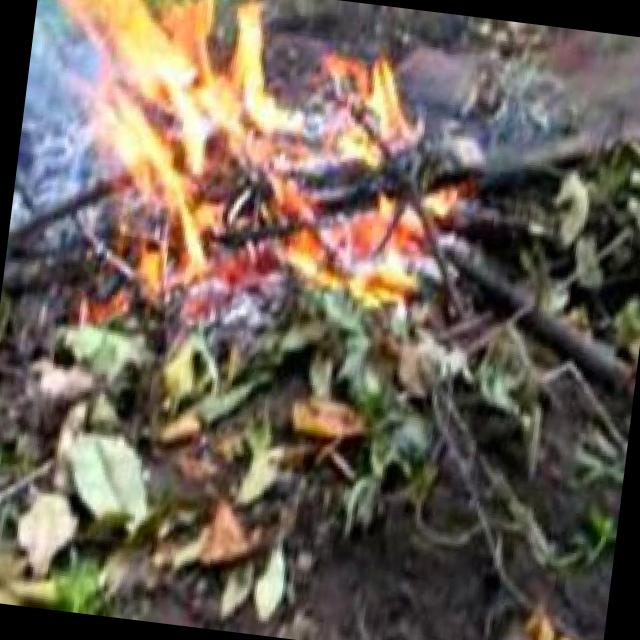Fire: (10, 0, 448, 309)
